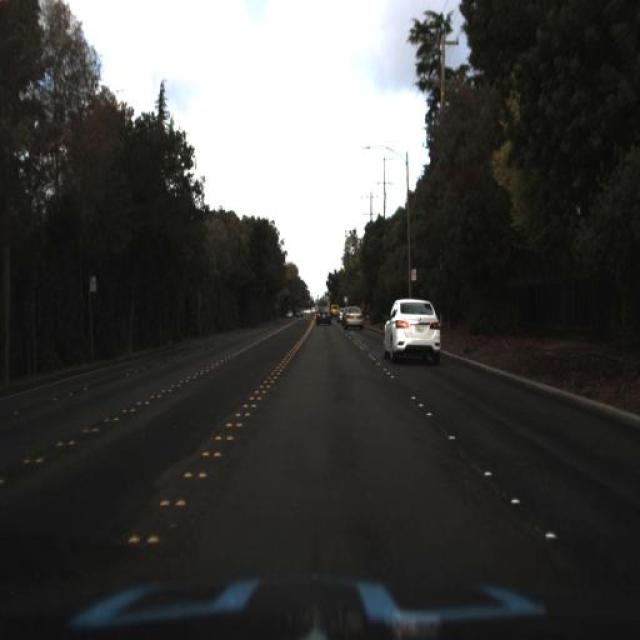car: (380, 296, 446, 373), (344, 302, 364, 336), (314, 302, 332, 326)
